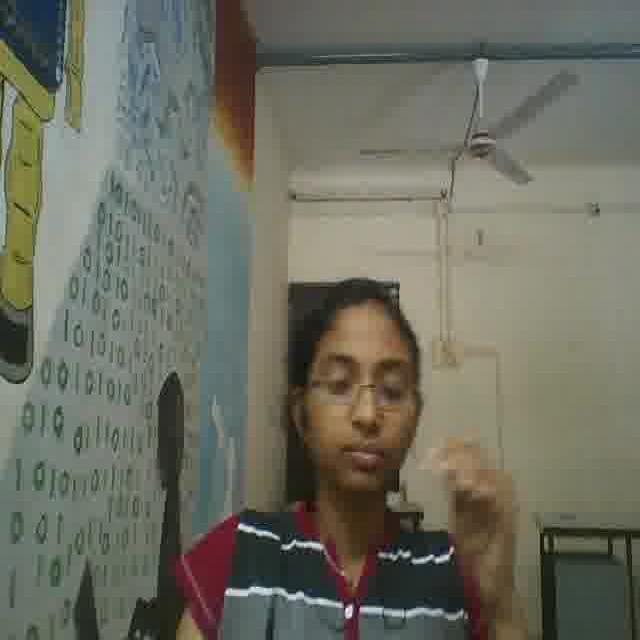Confusion: (304, 310, 409, 493)
